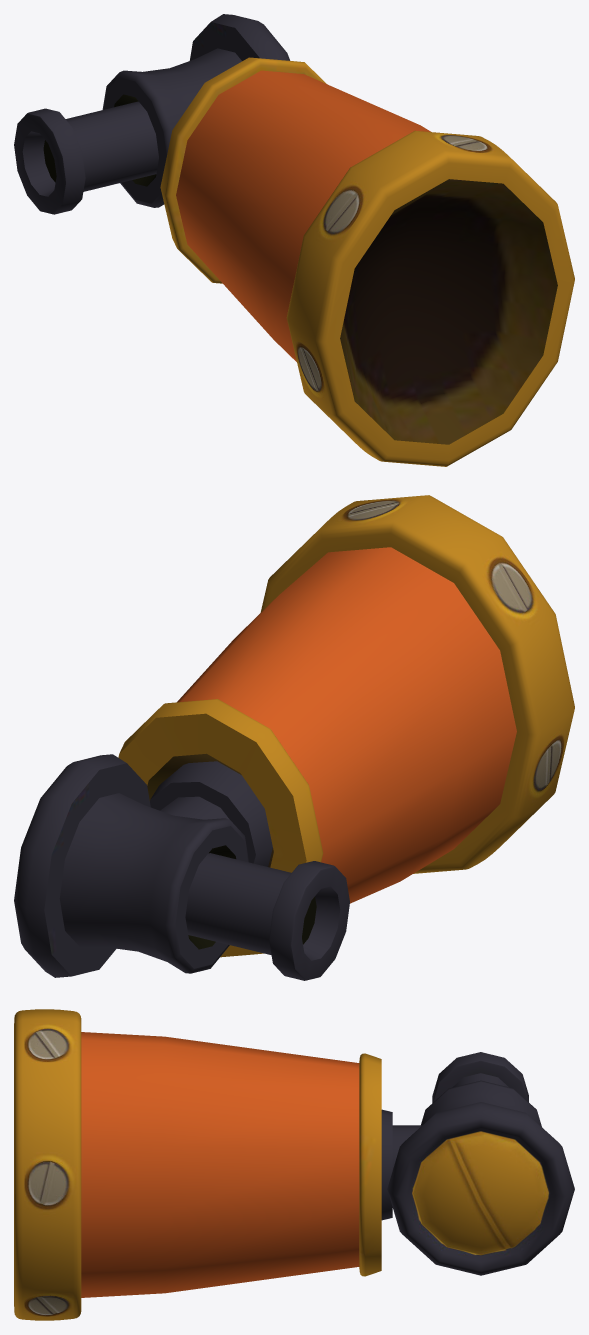
File: Assist_jixiebi02_L.FBX
3 renders of one model, top to bottom at view 1: azimuth 30°, elevation 25°; view 2: azimuth 150°, elevation 25°; view 3: azimuth 270°, elevation 25°, orthographic. The views are drawn at different scales.
Visible parts, largest first — view 1: Weapon_jixiebi02_L; view 2: Weapon_jixiebi02_L; view 3: Weapon_jixiebi02_L.
Boxes of the visible parts, x1,y1,x2,y2 form: Weapon_jixiebi02_L: (14, 14, 574, 466); Weapon_jixiebi02_L: (14, 495, 574, 980); Weapon_jixiebi02_L: (14, 1009, 574, 1320).
Size of the model in its own units: 1.53 by 1.63 by 2.83.
Materials: 1 (1 with a texture image).
